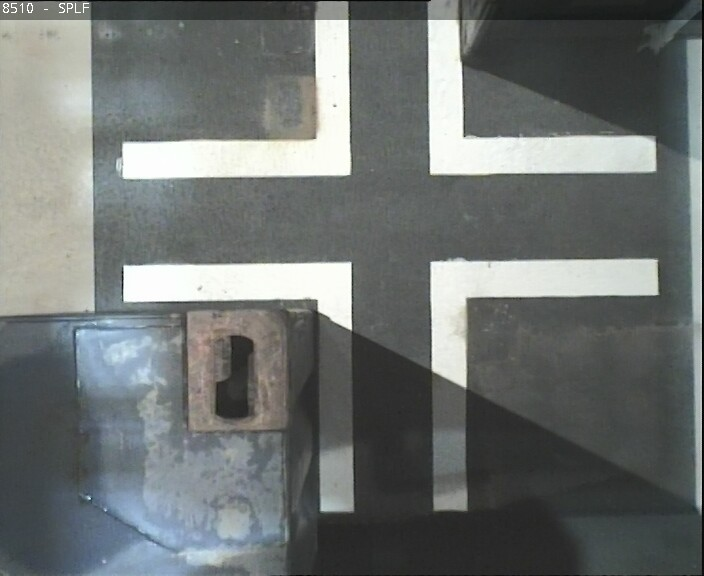groundmarker_1: (121, 259, 662, 514), (118, 1, 658, 176)
